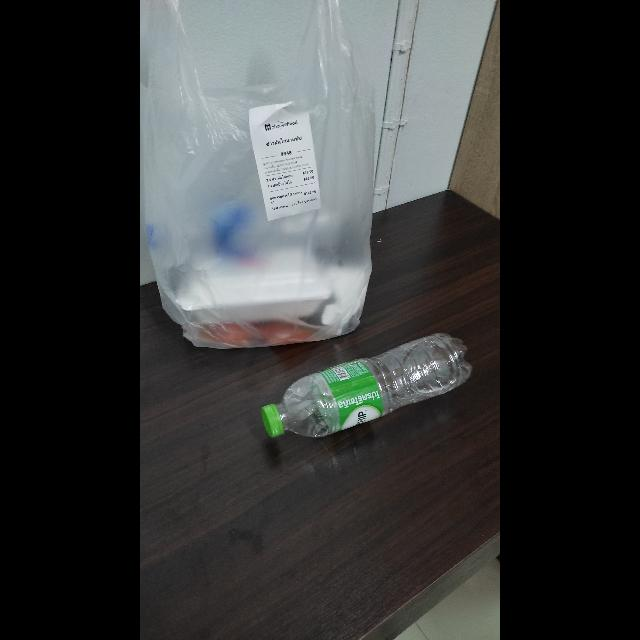plastic_bag: (145, 2, 381, 346)
plastic_bottle: (252, 332, 483, 440), (152, 198, 372, 268)
plastic_bottle_cap: (259, 402, 289, 442)
scrap_paper: (247, 100, 321, 222)
